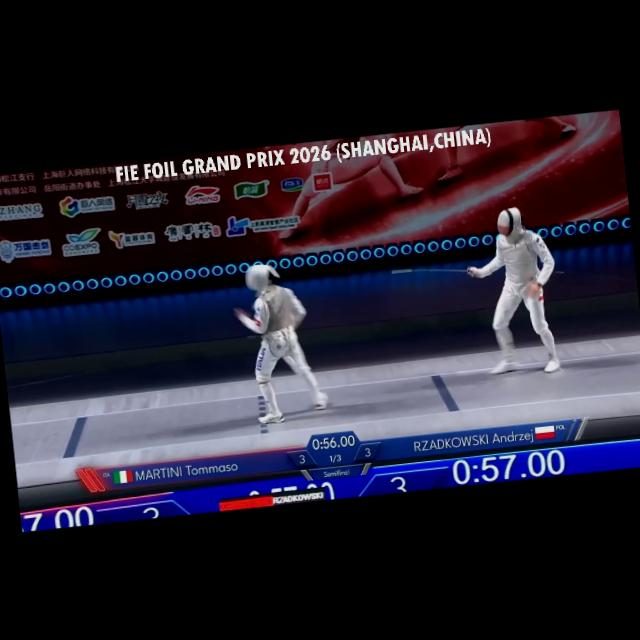blade: (388, 256, 482, 293)
